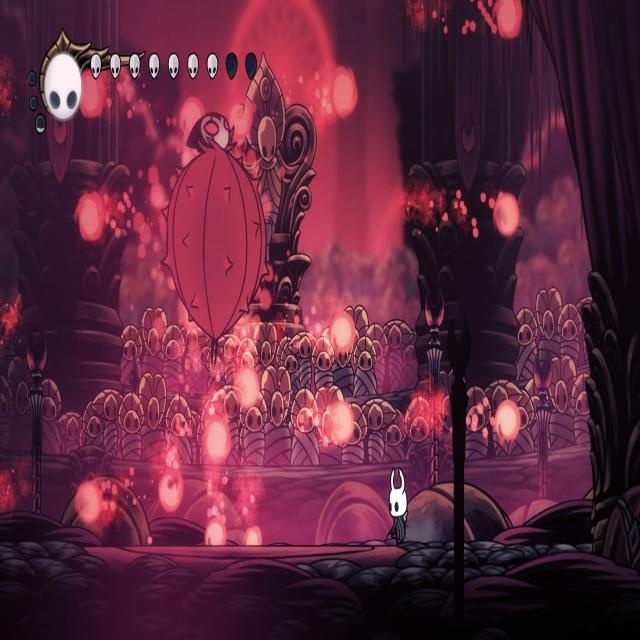Player: (385, 463, 412, 548)
Pufferfish: (157, 105, 273, 381)
Tiny Fireballs: (77, 191, 106, 242), (77, 68, 106, 119), (332, 69, 358, 120), (203, 418, 230, 465), (77, 481, 103, 528), (158, 468, 184, 513), (234, 366, 260, 410), (330, 401, 355, 446), (496, 400, 522, 442), (497, 0, 524, 40), (494, 192, 518, 236), (332, 314, 357, 355), (182, 97, 204, 133), (229, 100, 250, 136), (205, 520, 226, 546), (245, 527, 262, 546)
